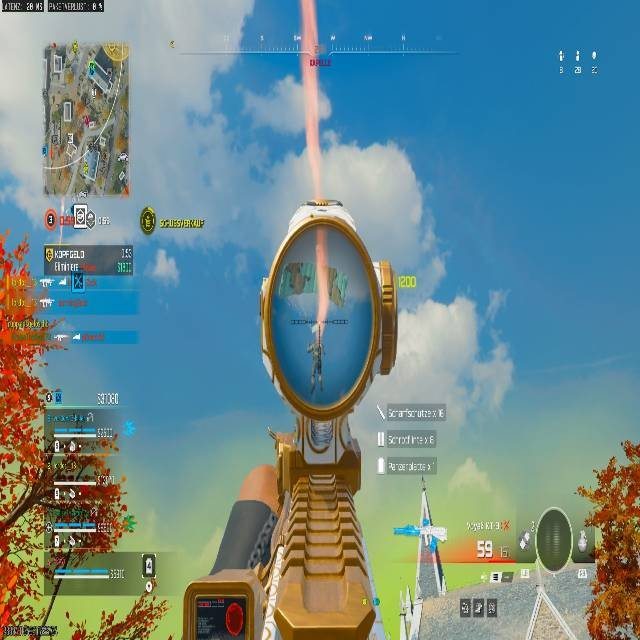player: (144, 248, 179, 314), (520, 531, 529, 550)
